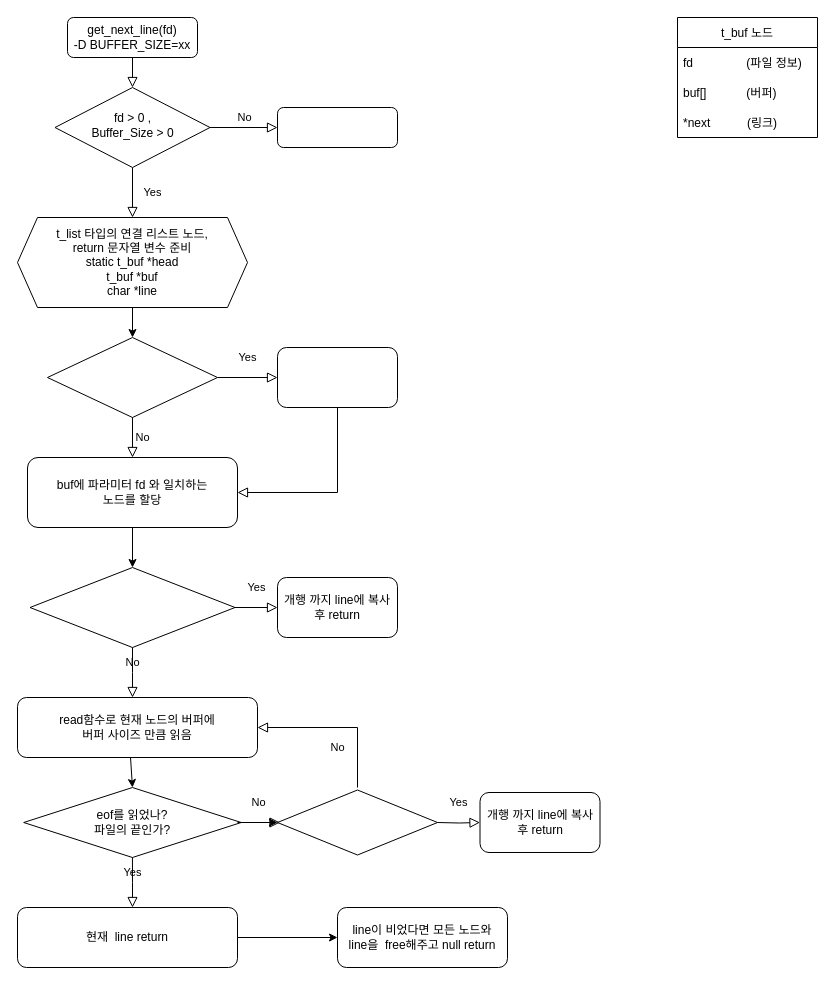
This 835x985 diagram has some shape labels left out. Each missing label, with the centre of its shape:
head가 null인가? (프로그램의 시작인가?): the point at 132,377
return NULL: the point at 337,127
버퍼에 개행이 있나?: the point at 357,822
현재 fd를 저장한 새로운 노드 생성: the point at 337,377
현재 노드 buf에 개행문자가 있나?: the point at 132,607
